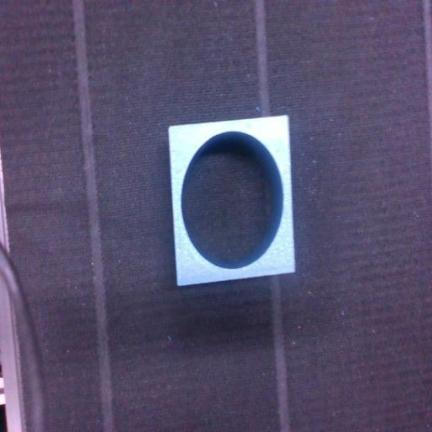square: (182, 133, 281, 269)
